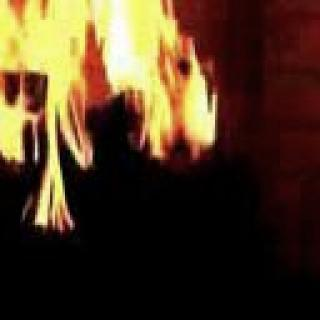fire: (0, 0, 212, 143)
